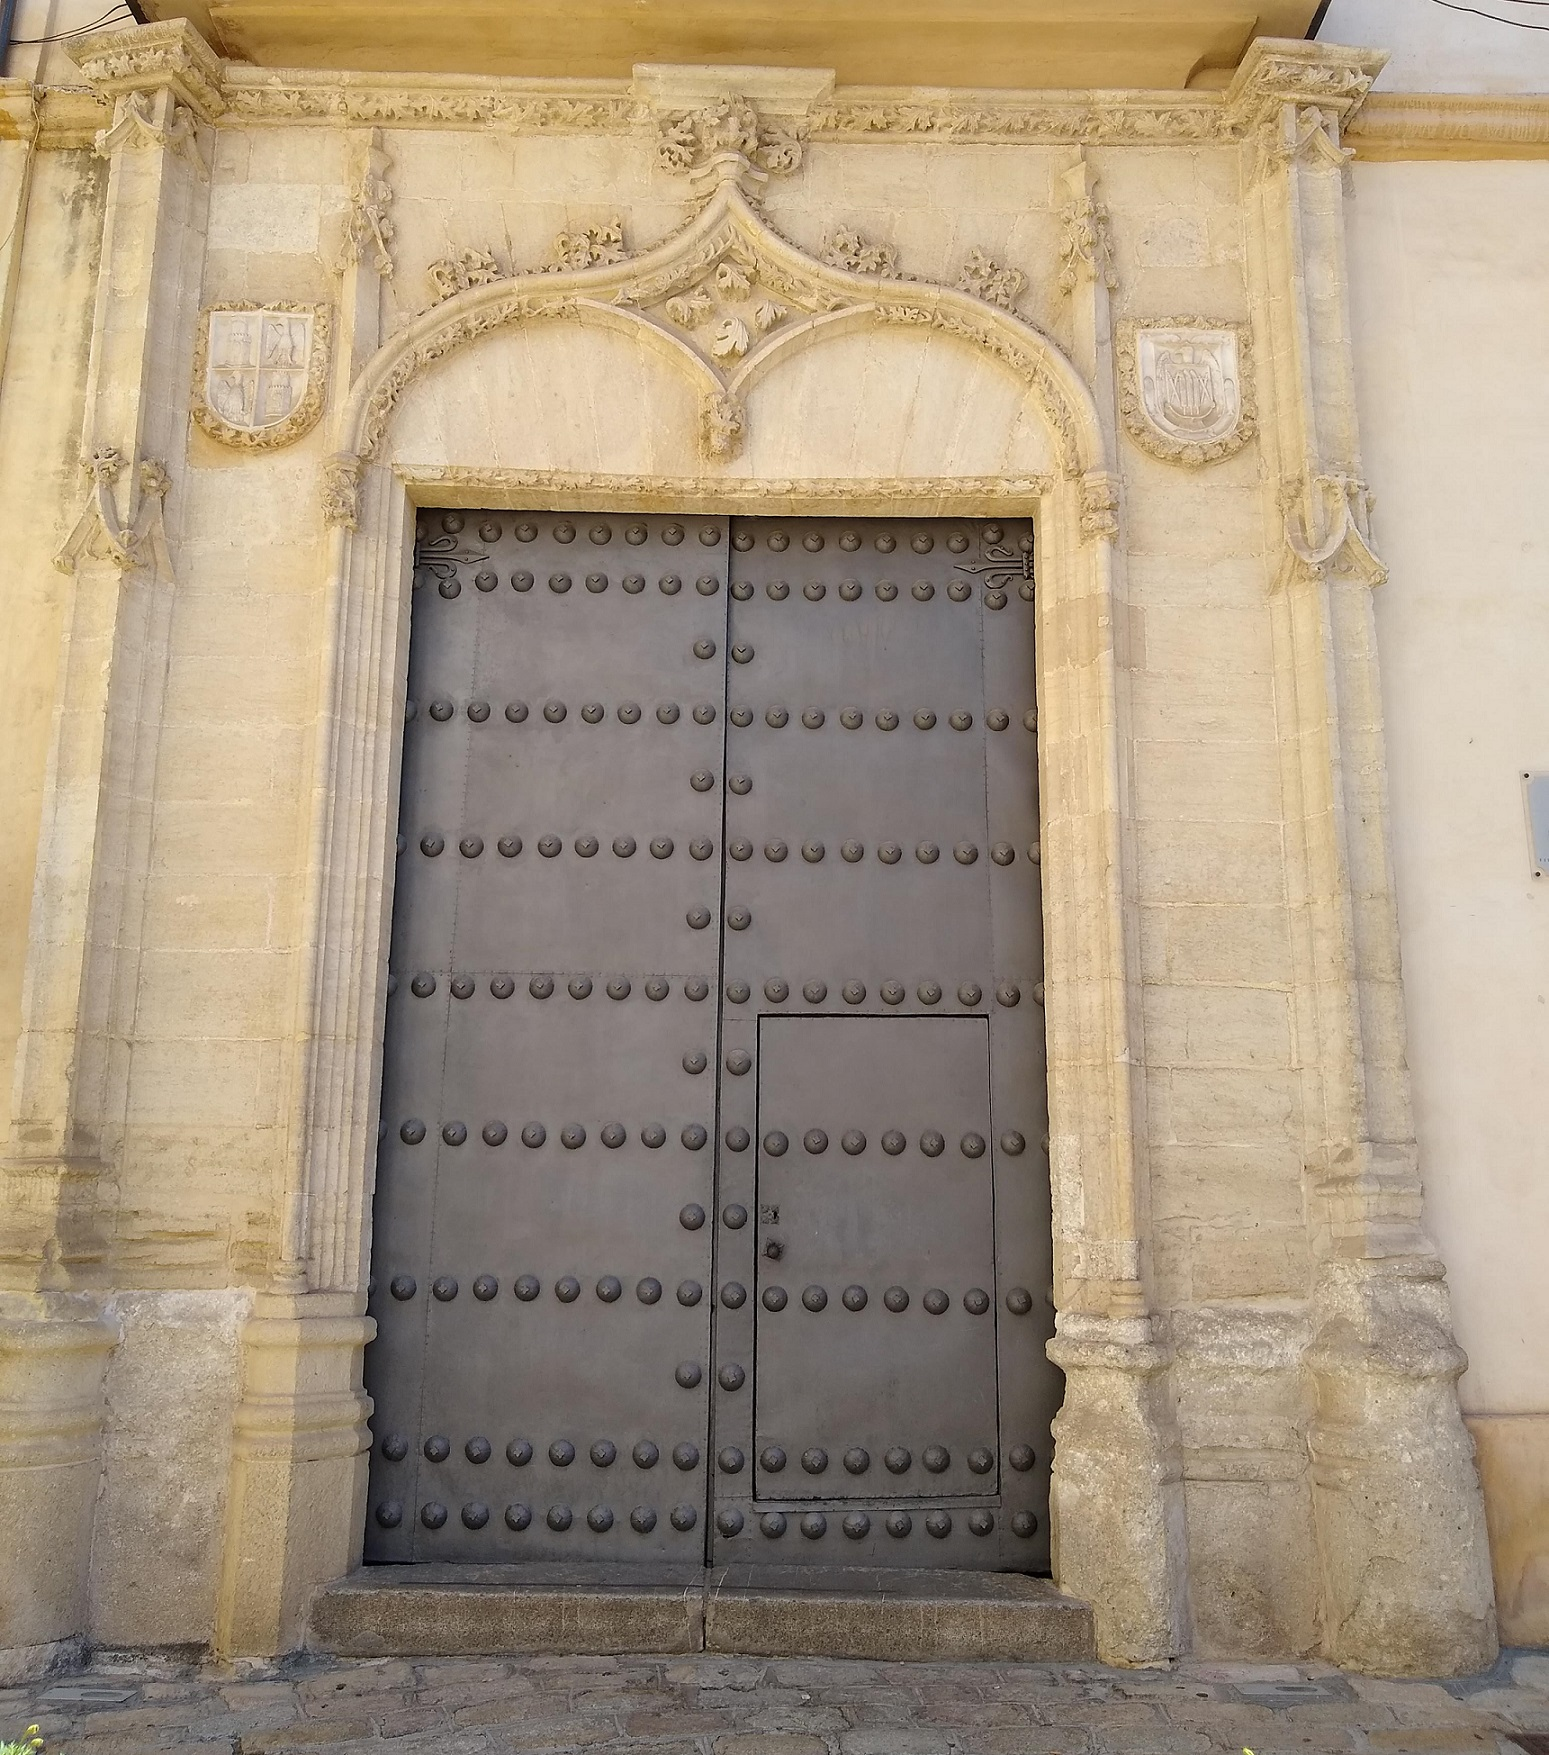arco-conopial: (335, 170, 1115, 468)
